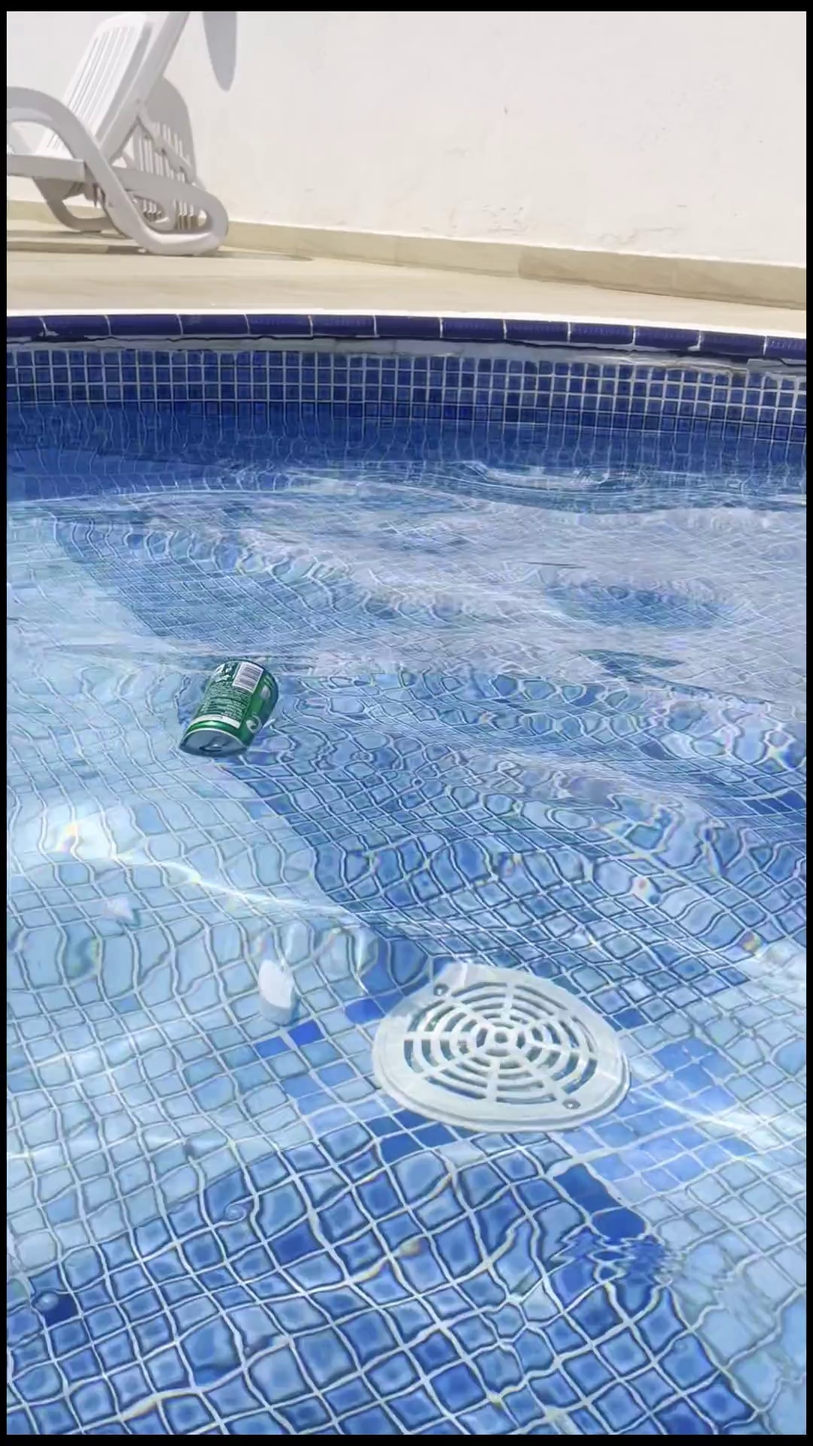debris: (175, 622, 279, 799)
